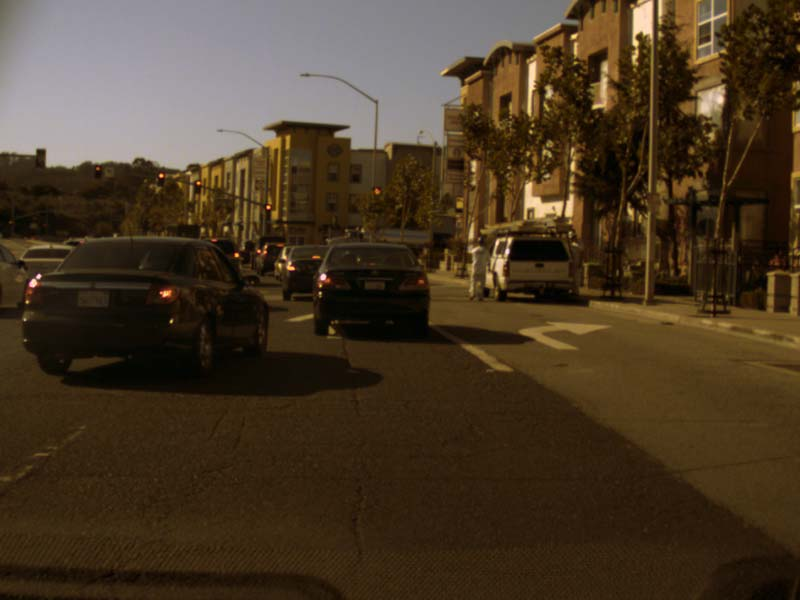Red: (264, 204, 271, 220), (94, 165, 101, 179), (193, 180, 200, 193), (158, 172, 164, 185)
